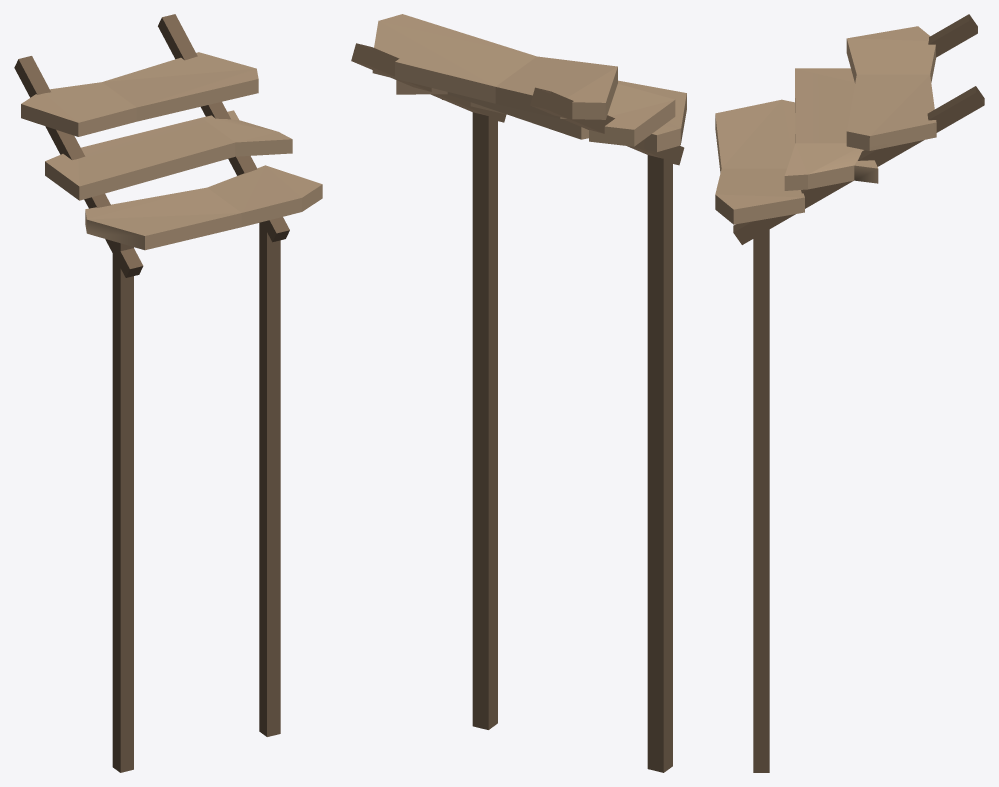
The model's file is Stairs_5.fbx.
3 renders of one model, left to right at view 1: azimuth 30°, elevation 25°; view 2: azimuth 150°, elevation 25°; view 3: azimuth 270°, elevation 25°, orthographic. The views are drawn at different scales.
Visible parts, largest first — view 1: Stairs_5; view 2: Stairs_5; view 3: Stairs_5.
Part boxes in pixels (bbox=[...]): Stairs_5: bbox=[14, 14, 322, 772]; Stairs_5: bbox=[351, 14, 686, 772]; Stairs_5: bbox=[715, 14, 984, 772].
Bounding box in the file's own units: 129 × 370 × 133.
1 material, 1 textured.
